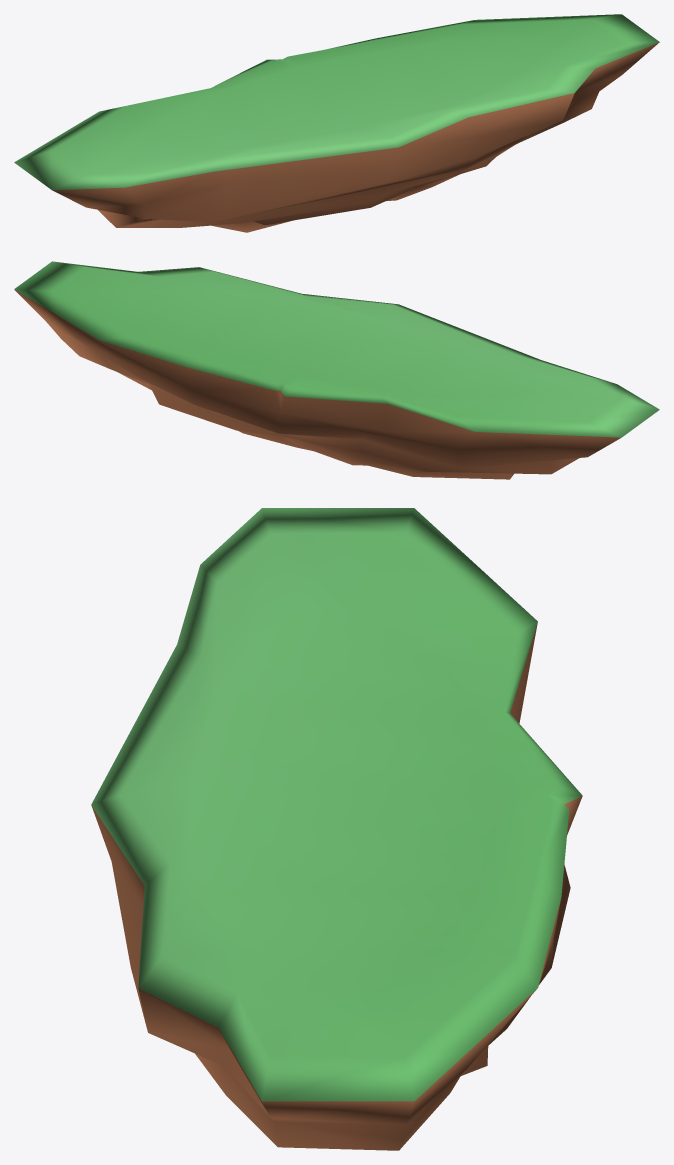
The model's file is Ground.fbx.
3 views of the same model, one above another, from view 1: azimuth 30°, elevation 25°; view 2: azimuth 150°, elevation 25°; view 3: azimuth 270°, elevation 25° (orthographic). The views are drawn at different scales.
Visible parts, largest first — view 1: Rock; view 2: Rock; view 3: Rock.
Boxes of the visible parts, <box> form: Rock: <box>14,14,659,232</box>; Rock: <box>14,261,659,479</box>; Rock: <box>91,508,582,1150</box>.
Size of the model in its own units: 1213 by 193 by 425.
